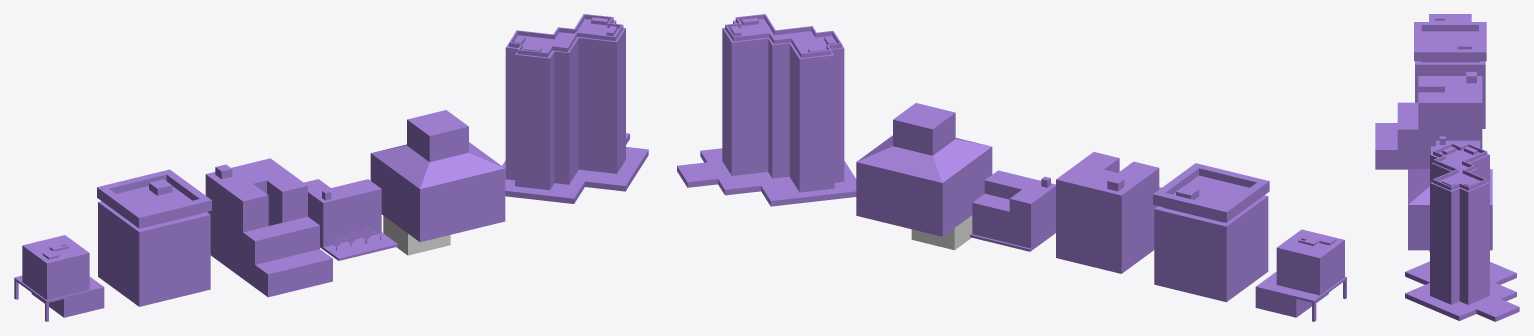
The picture shows the model from 3 angles, left to right: view 1: azimuth 30°, elevation 25°; view 2: azimuth 150°, elevation 25°; view 3: azimuth 270°, elevation 25°; orthographic projection. The views are drawn at different scales.
Visible parts, largest first — view 1: building-1_Cube.016, building-2_Cube.017, building-3_Cube.022, building-6_Plane.001, building--5_Cube.029, building-4_Cube.025, Cube; view 2: building-1_Cube.016, building-2_Cube.017, building-6_Plane.001, building-3_Cube.022, building-4_Cube.025, building--5_Cube.029, Cube; view 3: building-1_Cube.016, building-3_Cube.022, building-2_Cube.017, building-6_Plane.001, building-4_Cube.025, building--5_Cube.029.
Part boxes in pixels (x1,y1,x2,y2): building-1_Cube.016: (502,14,648,203); building-2_Cube.017: (97,169,211,306); building-3_Cube.022: (205,158,332,297); building-6_Plane.001: (370,110,505,242); building--5_Cube.029: (304,179,397,260); building-4_Cube.025: (14,235,104,321); Cube: (383,216,450,255); building-1_Cube.016: (677,14,856,206); building-2_Cube.017: (1153,163,1269,302); building-6_Plane.001: (856,103,992,236); building-3_Cube.022: (1056,152,1161,273); building-4_Cube.025: (1255,229,1346,321); building--5_Cube.029: (970,170,1055,251); Cube: (911,215,972,250); building-1_Cube.016: (1405,143,1519,321); building-3_Cube.022: (1375,72,1482,169); building-2_Cube.017: (1414,22,1486,128); building-6_Plane.001: (1408,146,1492,250); building-4_Cube.025: (1429,14,1471,21); building--5_Cube.029: (1436,136,1480,148).
Bounding box in the file's own units: 29.15 × 7.42 × 6.82.
